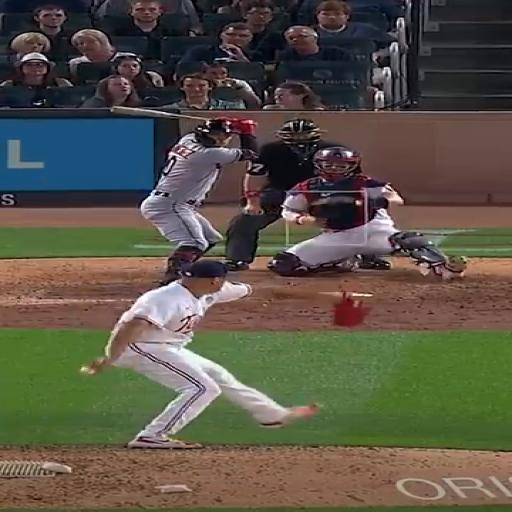bat: (110, 106, 207, 121)
